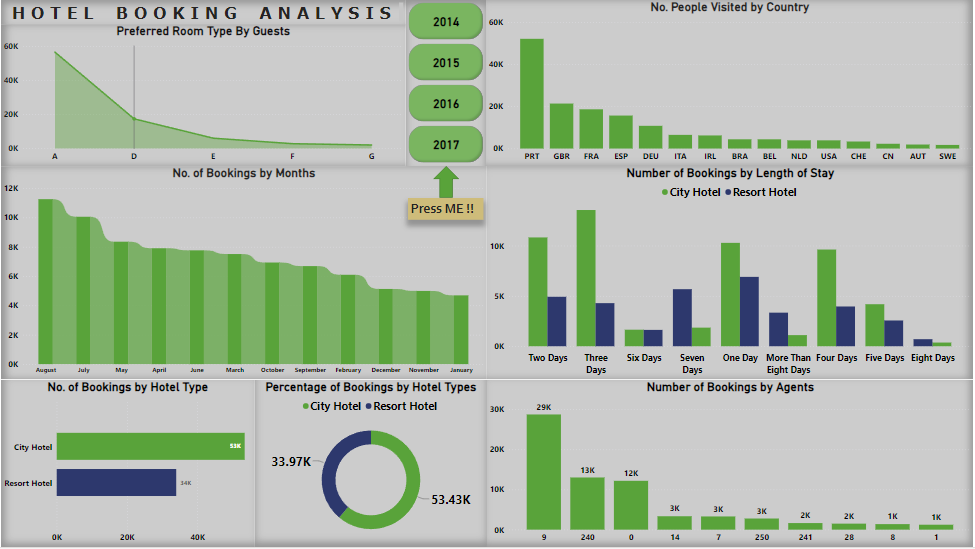

This screenshot's page, from the dashboard's own definition file:
{"tool":"powerbi","page":{"name":"Dashboard","canvas":[1920,1080],"ordinal":12},"visuals":[{"type":"barChart","title":"No. of Bookings by Hotel Type","fields":{"Category":["Hotel Bookings.hotel"],"Y":["CountNonNull(Hotel Bookings.hotel)"]},"box":[0,749.5,501.1,330.5],"z":0},{"type":"donutChart","fields":{"Category":["Hotel Bookings.hotel"],"Y":["CountNonNull(Hotel Bookings.hotel)"]},"box":[501.1,749.5,457.9,330.5],"z":1000},{"type":"clusteredColumnChart","fields":{"Category":["Hotel Bookings.agent"],"Y":["CountNonNull(Hotel Bookings.hotel)"]},"box":[959,749.5,961.2,330.5],"z":2000},{"type":"ribbonChart","fields":{"Category":["Hotel Bookings.arrival_date_month"],"Y":["CountNonNull(Hotel Bookings.hotel)"]},"box":[0,328.3,959,421.2],"z":3000},{"type":"clusteredColumnChart","title":"Number of Bookings by Length of Stay","fields":{"Series":["Hotel Bookings.hotel"],"Category":["Hotel Bookings.Length_of_Stay_Category"],"Y":["CountNonNull(Hotel Bookings.hotel)"]},"box":[959,328.3,961.2,421.2],"z":4000},{"type":"clusteredColumnChart","title":"No. People Visited by Country","fields":{"Category":["Hotel Bookings.country"],"Y":["Hotel Bookings.total_people"]},"box":[956.9,0,963.4,328.3],"z":5000},{"type":"advancedSlicerVisual","fields":{"Values":["Hotel Bookings.reservation_status_date.Variation.Date Hierarchy.Year"]},"box":[799.2,0,157.7,328.3],"z":6000},{"type":"areaChart","title":"Preferred Room Type By Guests","fields":{"Category":["Hotel Bookings.reserved_room_type"],"Y":["CountNonNull(Hotel Bookings.reserved_room_type)"]},"box":[0,47.5,799.2,280.8],"z":7000},{"type":"textbox","box":[0,0,799.2,47.5],"z":8000},{"type":"shape","box":[853.2,328.3,51.8,62.6],"z":8001},{"type":"textbox","box":[803.5,391,149,43.2],"z":8002}]}

Visuals, with their boxes in screenshot pixels (x1, y1, x2, y2), scaled from the page's 1920x1080 canvas onto the 975x549 screenshot:
"No. of Bookings by Hotel Type" barChart: (x1=0, y1=381, x2=254, y2=548)
donutChart - Hotel Bookings.hotel x CountNonNull(Hotel Bookings.hotel): (x1=254, y1=381, x2=487, y2=548)
clusteredColumnChart - Hotel Bookings.agent x CountNonNull(Hotel Bookings.hotel): (x1=487, y1=381, x2=974, y2=548)
ribbonChart - Hotel Bookings.arrival_date_month x CountNonNull(Hotel Bookings.hotel): (x1=0, y1=167, x2=487, y2=381)
"Number of Bookings by Length of Stay" clusteredColumnChart: (x1=487, y1=167, x2=974, y2=381)
"No. People Visited by Country" clusteredColumnChart: (x1=486, y1=0, x2=974, y2=167)
advancedSlicerVisual - Hotel Bookings.reservation_status_date.Variation.Date Hierarchy.Year: (x1=406, y1=0, x2=486, y2=167)
"Preferred Room Type By Guests" areaChart: (x1=0, y1=24, x2=406, y2=167)
textbox: (x1=0, y1=0, x2=406, y2=24)
shape: (x1=433, y1=167, x2=460, y2=199)
textbox: (x1=408, y1=199, x2=484, y2=221)
